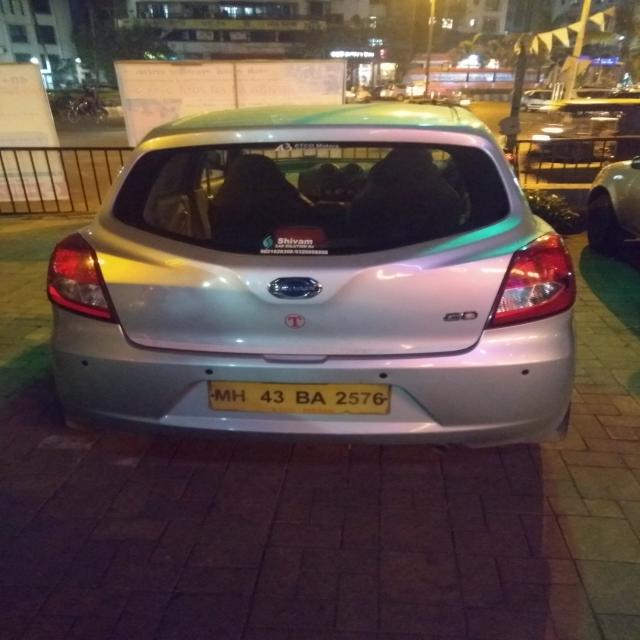Number-Plate: (210, 381, 388, 415)
